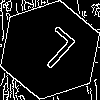L: (25, 25, 78, 78)
